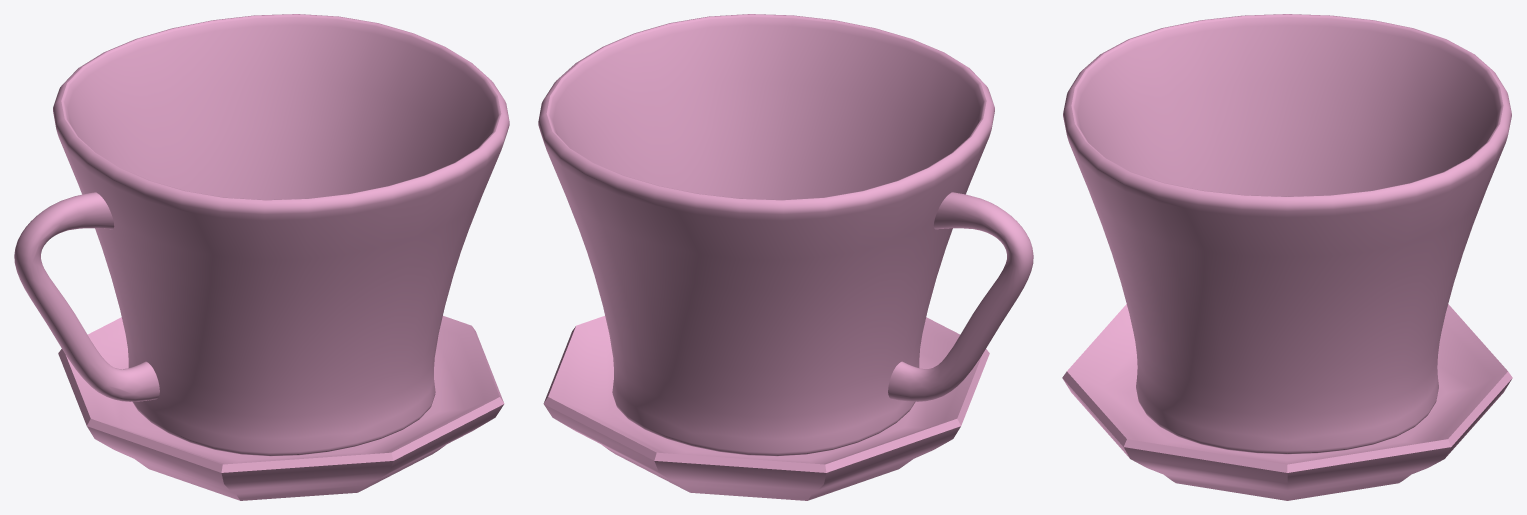
Rendered from tazzina_rosa_LOD0.fbx.
3 renders of one model, left to right at view 1: azimuth 30°, elevation 25°; view 2: azimuth 150°, elevation 25°; view 3: azimuth 270°, elevation 25°, orthographic.
Visible parts, largest first — view 1: Cube_010; view 2: Cube_010; view 3: Cube_010.
Boxes of the visible parts, x1,y1,x2,y2 form: Cube_010: (14,14,509,500); Cube_010: (538,14,1033,500); Cube_010: (1062,14,1512,500).
Bounding box in the file's own units: 30.05 × 20.71 × 25.48.
